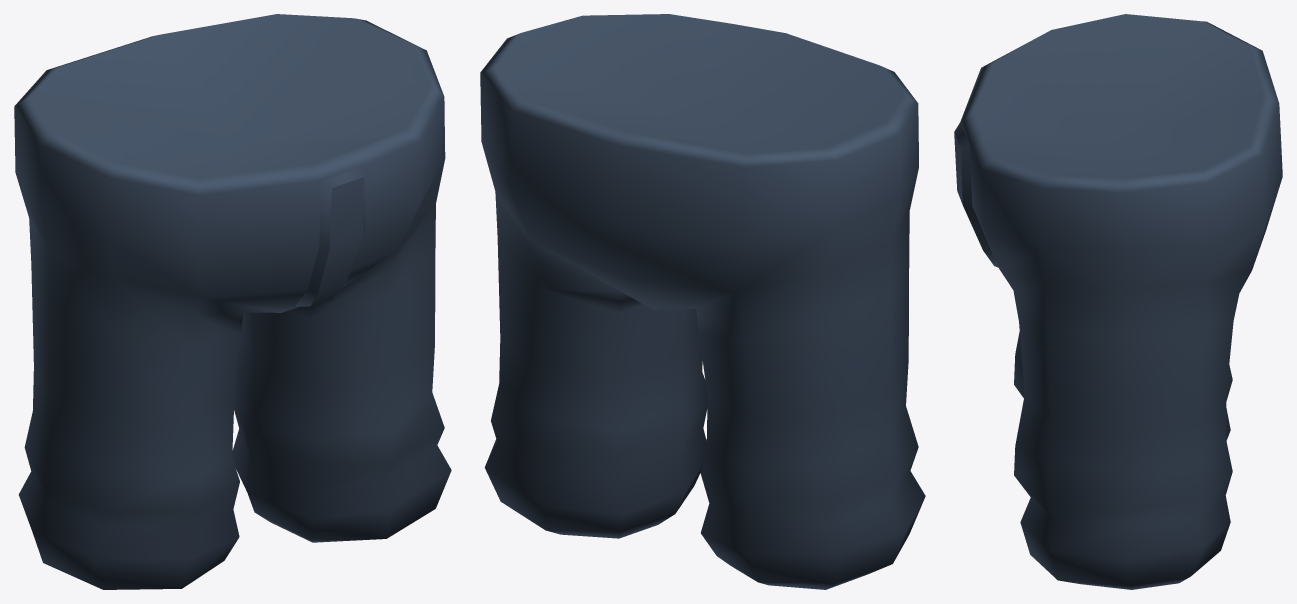
The model's file is Bottom_25.fbx.
3 views of the same model, side by side, from view 1: azimuth 30°, elevation 25°; view 2: azimuth 150°, elevation 25°; view 3: azimuth 270°, elevation 25° (orthographic). The views are drawn at different scales.
Parts seen in each view (by area): view 1: Bottom_25; view 2: Bottom_25; view 3: Bottom_25.
Boxes of the visible parts, bbox=[...] form: Bottom_25: bbox=[14, 14, 451, 589]; Bottom_25: bbox=[480, 14, 925, 589]; Bottom_25: bbox=[954, 14, 1282, 589].
Size of the model in its own units: 39.8 by 42.8 by 30.23.
